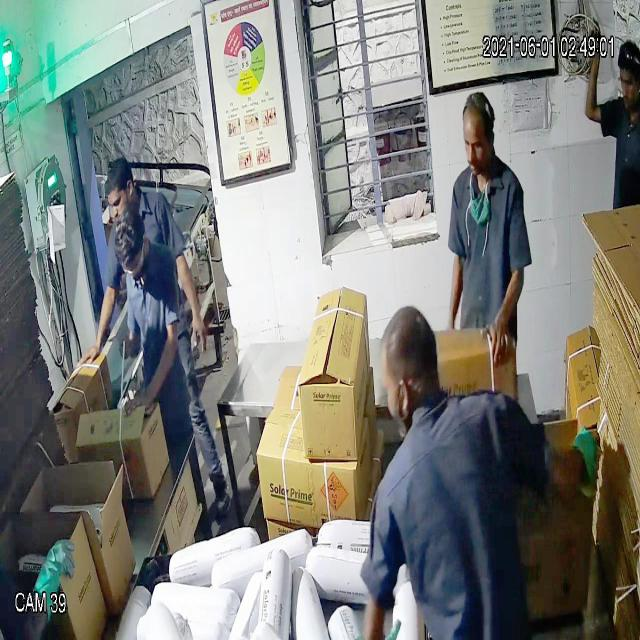glasses: (119, 248, 149, 284)
no-glass: (460, 129, 497, 160)
